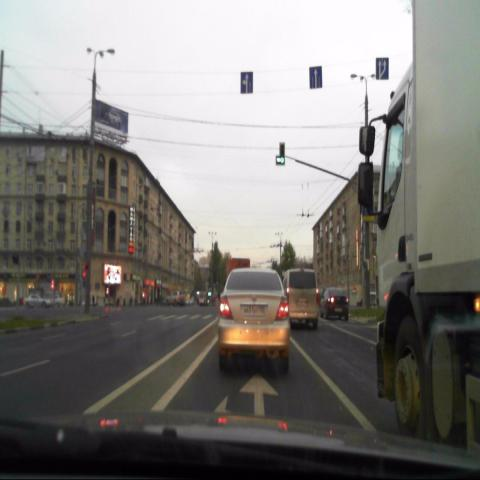5_15_3: (376, 57, 389, 79)
